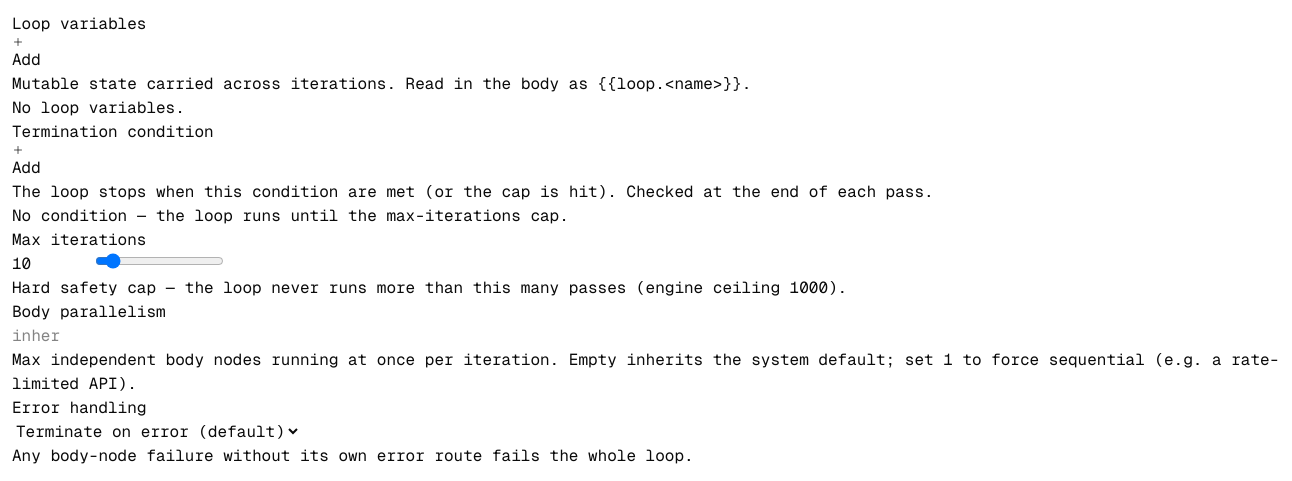
Test: LoopEditor › defaults max iterations to 10 and clamps out-of-range input
Replace the text in the 1st number field with "5000". click: (54, 264)
box: [12,252,95,276]
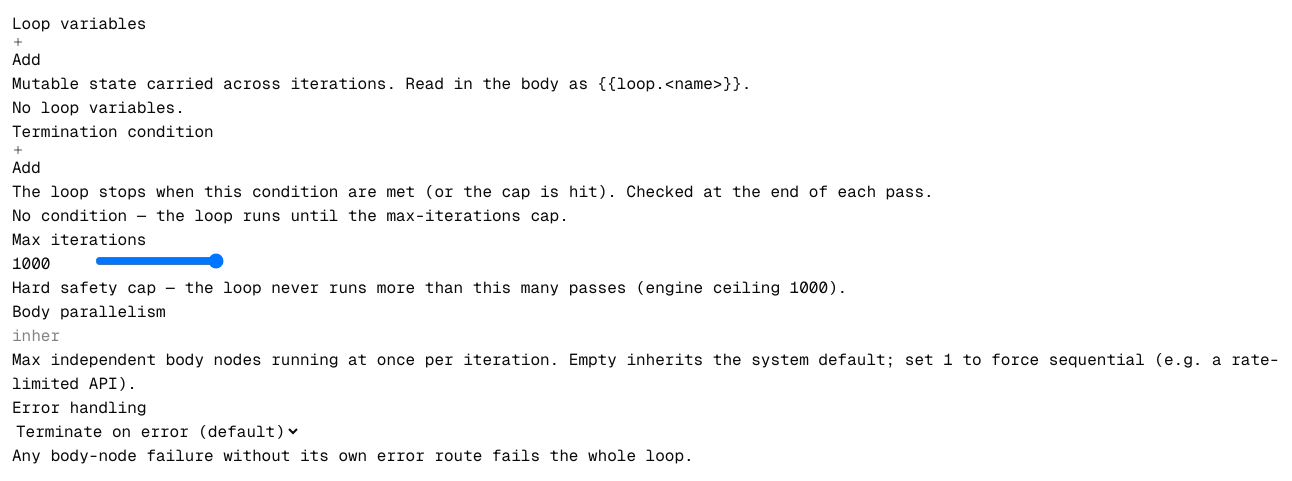
expect the 1st number field holds "1000": met
Replace the text in the 1st number field with "0". click: (54, 264)
box: [12,252,95,276]
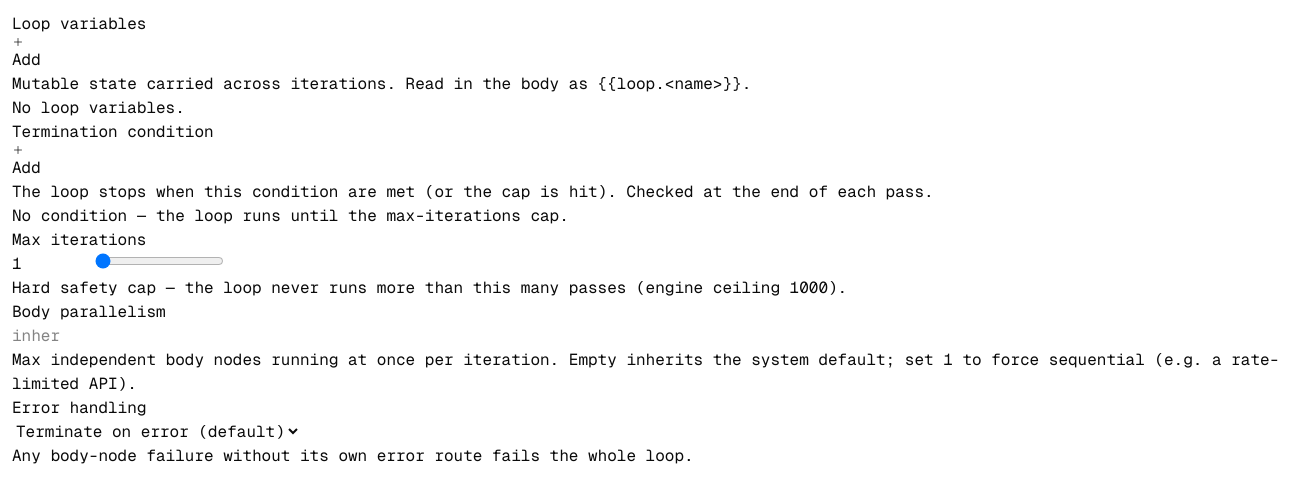
expect the 1st number field holds "1": met, box [12,252,95,276]
